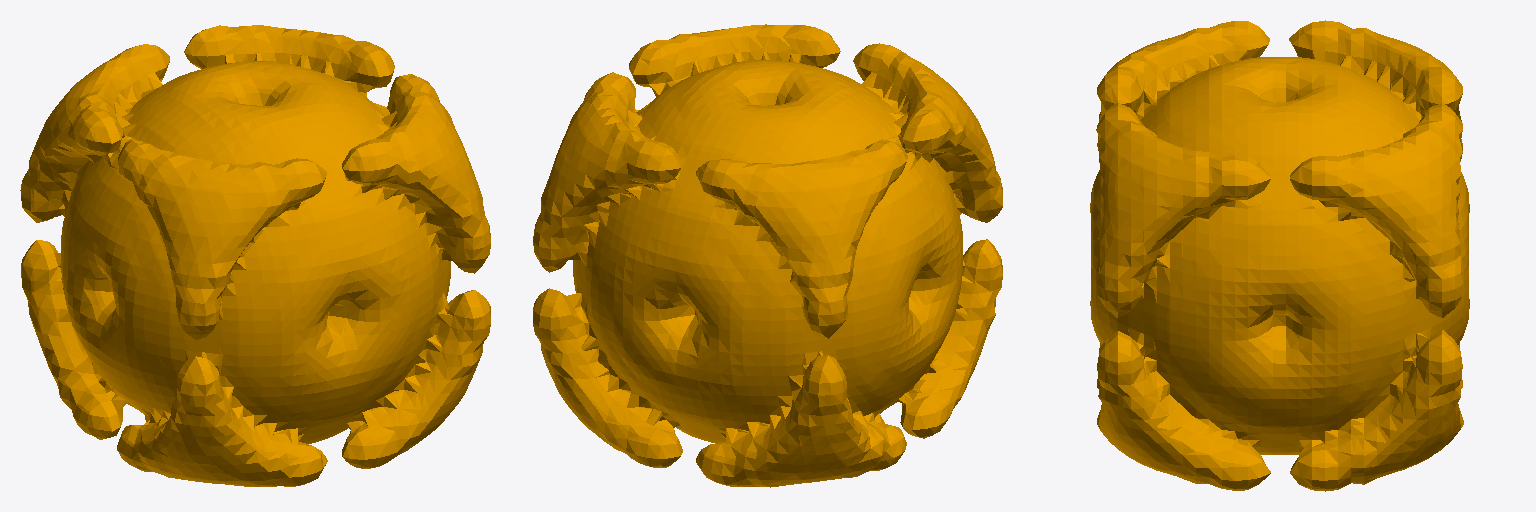
URDF robot description (D23_1):
<?xml version="1.0"?>
<robot name="D23_1">
  <link name="base_link">
    <inertial>
      <mass value="0.11491" />
      <origin xyz="0 0 0" />
      <inertia  ixx="0.0002" ixy="0.0"  ixz="0.0"  iyy="0.0002"  iyz="0.0" izz="0.0002" />
    </inertial>
    <visual>
      <geometry>
        <mesh filename="../../../meshes/egad/train/D23_1.obj" />
      </geometry>
    </visual>
    <collision>
      <geometry>
        <mesh filename="../../../meshes/egad/train/D23_1.obj" />
      </geometry>
    </collision>
  </link>
</robot>

--- What the picture shows (computed from the rendered views, not written in the file) ---
3 views of the same robot in one strip: view 1: azimuth 30°, elevation 25°; view 2: azimuth 150°, elevation 25°; view 3: azimuth 270°, elevation 25° (orthographic).
Robot: D23_1 — 1 links, 0 joints (none); root link base_link; default pose: every joint at zero.
Visible links, largest first — view 1: base_link; view 2: base_link; view 3: base_link.
Boxes of the visible links, x1,y1,x2,y2 form: base_link: [20, 25, 490, 486]; base_link: [533, 24, 1002, 487]; base_link: [1090, 20, 1469, 491].
Bounding box of the posed robot: 0.06 × 0.06 × 0.06 m (x, y, z).
Meshes: 1 distinct files referenced, 1 mesh visuals loaded (1 OBJ).